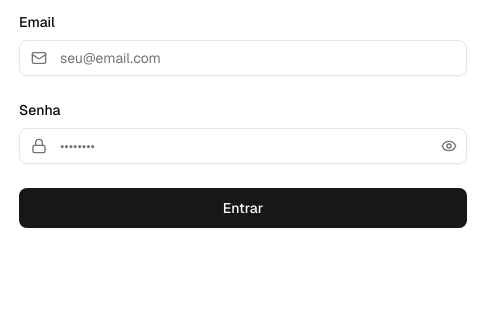
Test: LoginForm › should handle account lockout error
The image size is (487, 318).
Type "locked@example.com" into the field with placeholder "seu@email.com" at {"x": 243, "y": 58}, box [19, 40, 467, 76]
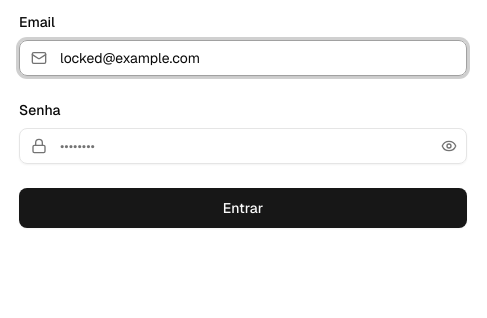
Type "password123" into the password field with placeholder "••••••••" at {"x": 243, "y": 146}, box [19, 128, 467, 164]
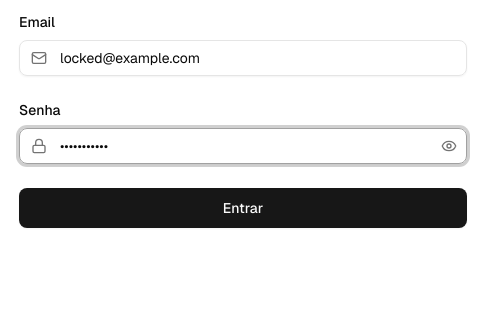
Click the button "Entrar" at {"x": 243, "y": 208}, box [19, 188, 467, 228]
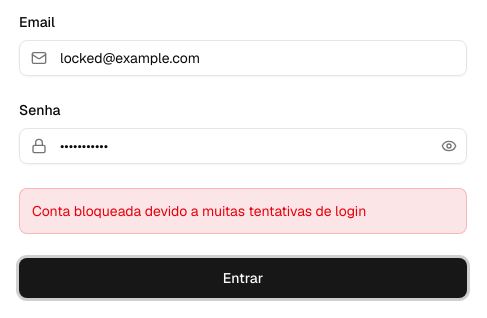
Check: the text "Conta bloqueada devido a muitas tentativas de login" is shown, box [19, 188, 467, 234]
